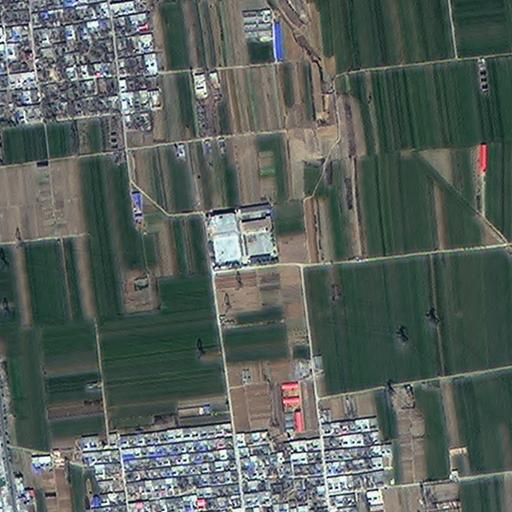school: (205, 202, 277, 268)
